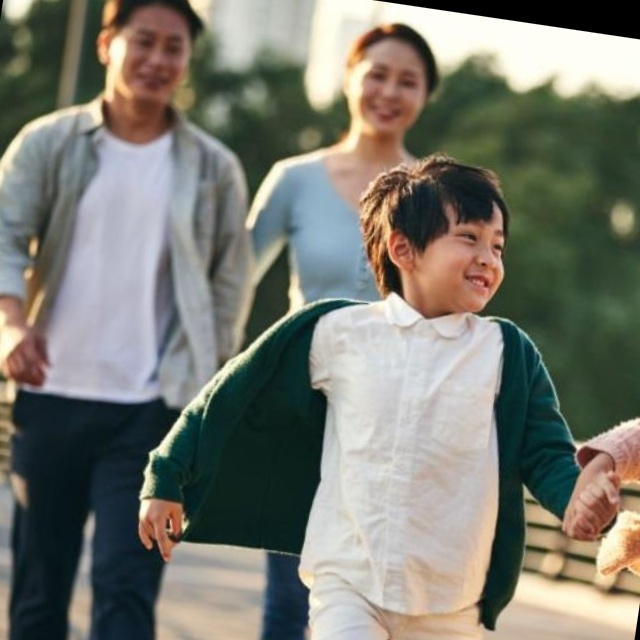Sin_Casco_Mascarrilla: (351, 145, 526, 316), (338, 17, 450, 144), (89, 0, 206, 111)
Sin_Chaleco: (0, 97, 255, 427)
